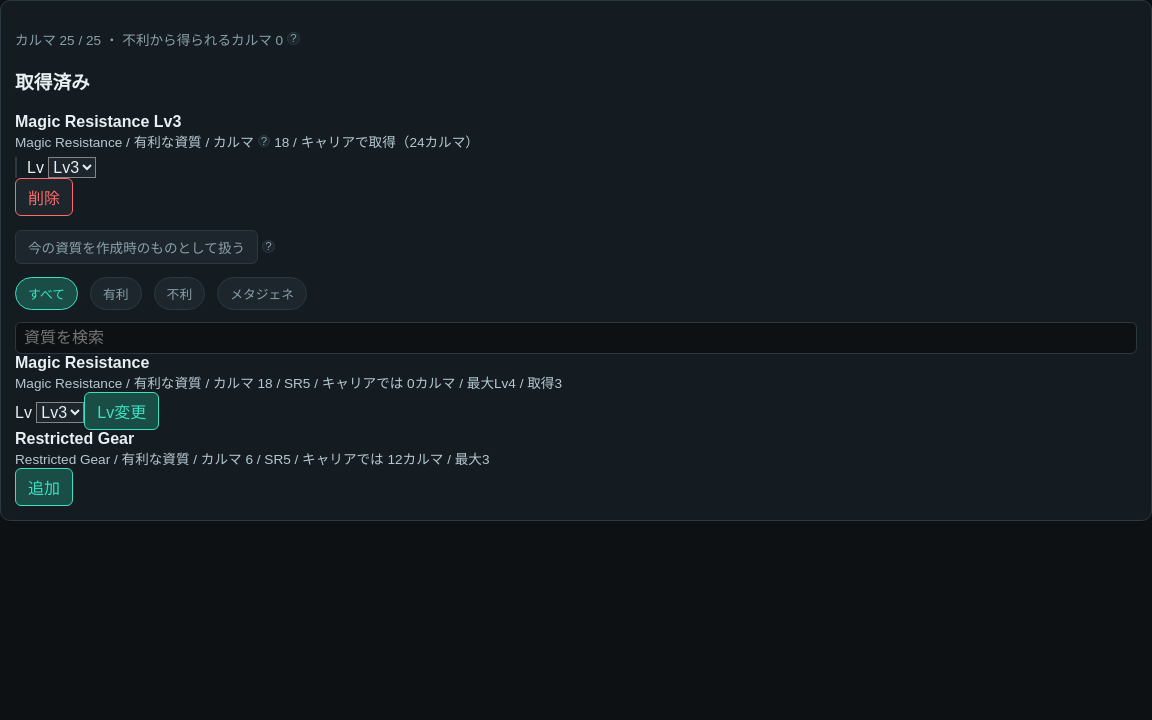
Scenario: <QualitiesTab> leveled qualities › sums only the newly purchased career levels
Check: the text "キャリアで取得（24カルマ）" is shown, box [289, 135, 479, 150]
Select "Lv4" in the dropdown named "Magic Resistanceの取得Lv" at (60, 413), box [36, 402, 84, 423]
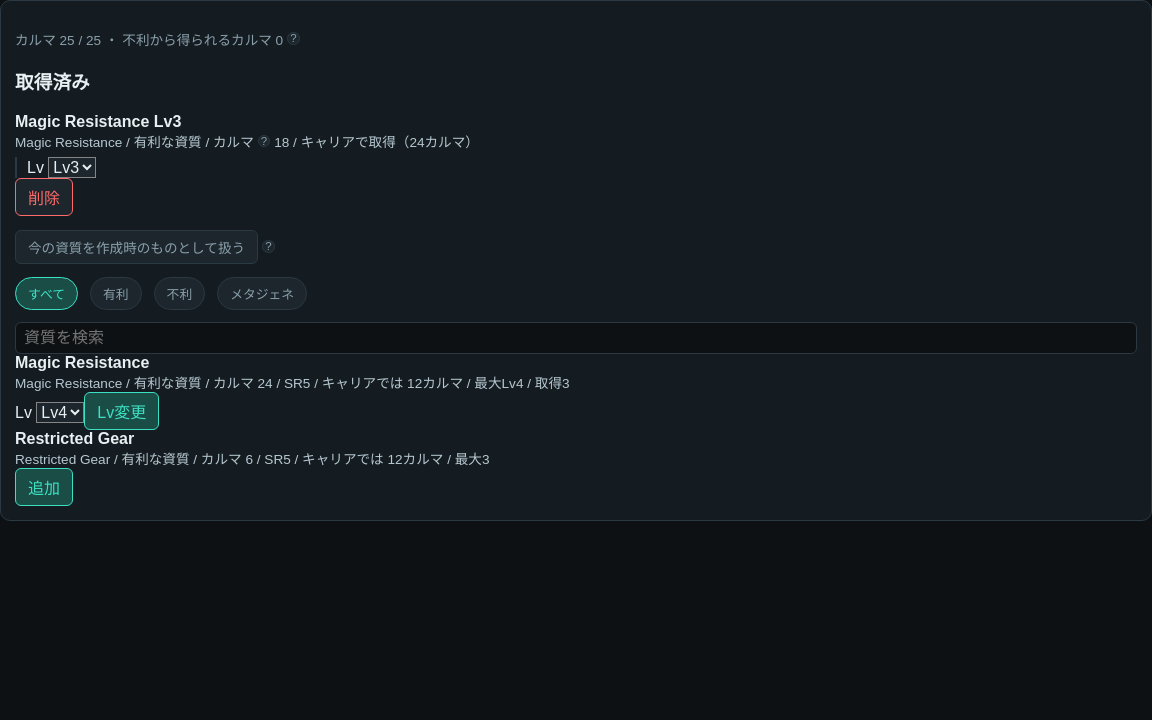
Check: the element that starts with "Magic Resistance" shows "キャリアでは 12カルマ", box [310, 376, 463, 391]
